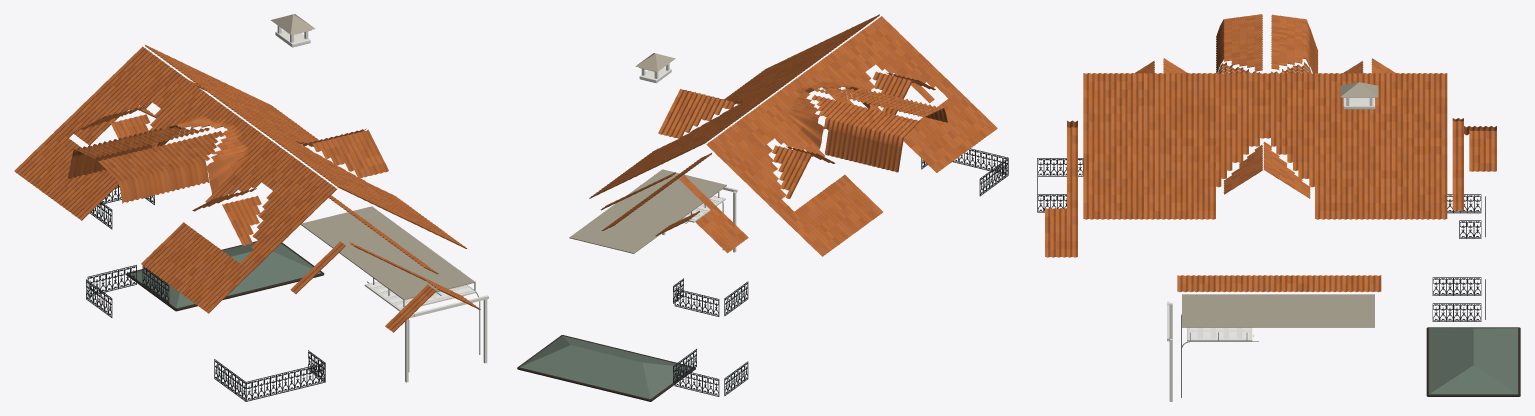
The model's file is envelope.glb.
The picture shows the model from 3 angles, left to right: view 1: azimuth 30°, elevation 25°; view 2: azimuth 150°, elevation 25°; view 3: azimuth 270°, elevation 25°; orthographic projection. The views are drawn at different scales.
Visible parts, largest first — view 1: Projected clay tile shells, Garage flat roof gravel, Ironwork | KORKULUK, Green rear canopy, Hipped chimney cap; view 2: Projected clay tile shells, Green rear canopy, Garage flat roof gravel, Ironwork | KORKULUK, Canopy fascia.001, Hipped chimney cap; view 3: Projected clay tile shells, Garage flat roof gravel, Green rear canopy, Ironwork | KORKULUK, Hipped chimney cap.
Boxes of the visible parts, <box> form: Projected clay tile shells: <box>14,44,480,332</box>; Garage flat roof gravel: <box>300,206,475,299</box>; Ironwork | KORKULUK: <box>86,185,325,401</box>; Green rear canopy: <box>130,242,320,308</box>; Hipped chimney cap: <box>271,14,315,34</box>; Projected clay tile shells: <box>589,14,997,256</box>; Green rear canopy: <box>520,336,691,399</box>; Garage flat roof gravel: <box>569,169,726,253</box>; Ironwork | KORKULUK: <box>673,148,1008,396</box>; Canopy fascia.001: <box>517,367,650,401</box>; Hipped chimney cap: <box>635,53,675,71</box>; Projected clay tile shells: <box>1045,14,1496,292</box>; Garage flat roof gravel: <box>1182,294,1374,327</box>; Green rear canopy: <box>1429,328,1518,394</box>; Ironwork | KORKULUK: <box>1037,158,1485,321</box>; Hipped chimney cap: <box>1340,82,1378,97</box>.
Size of the model in its own units: 13.66 by 11.67 by 17.98.
